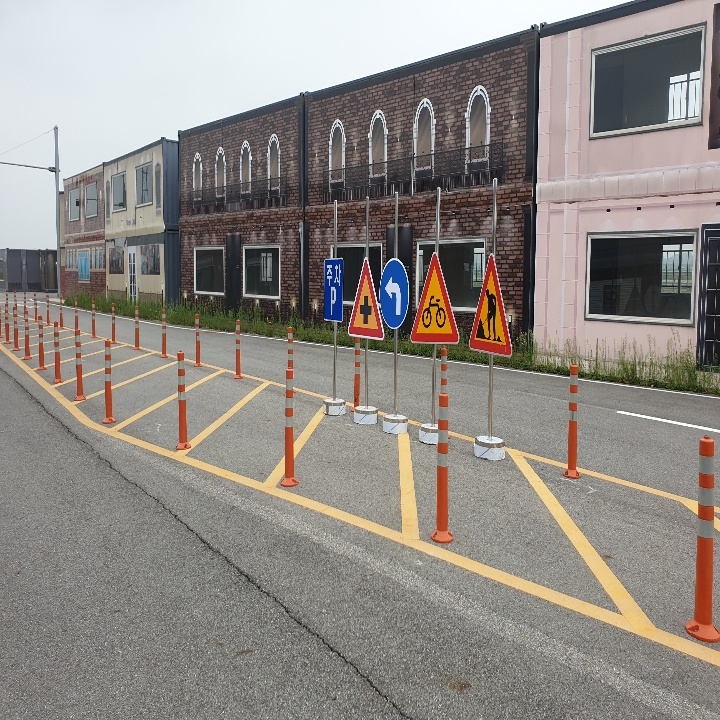bicycle: (409, 253, 459, 345)
const: (473, 284, 507, 346)
inter: (354, 292, 377, 328)
left: (380, 275, 406, 318)
parking: (324, 284, 341, 317)
